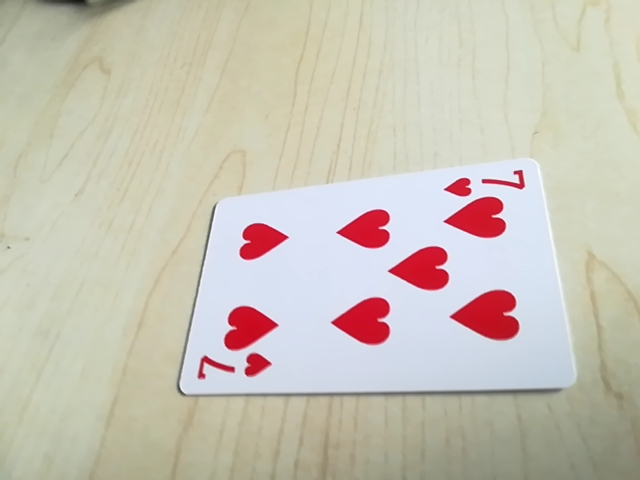hx 7: (194, 352, 276, 389), (440, 165, 531, 198)
